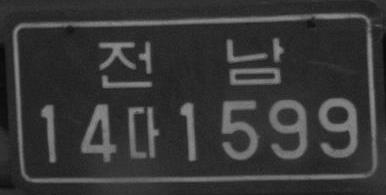1: (35, 102, 65, 164), (173, 101, 203, 161)
4: (78, 102, 118, 163)
5: (219, 98, 260, 161)
9: (267, 97, 309, 161), (317, 96, 359, 160)
다: (125, 104, 160, 160)
전남_D: (96, 35, 284, 90)
